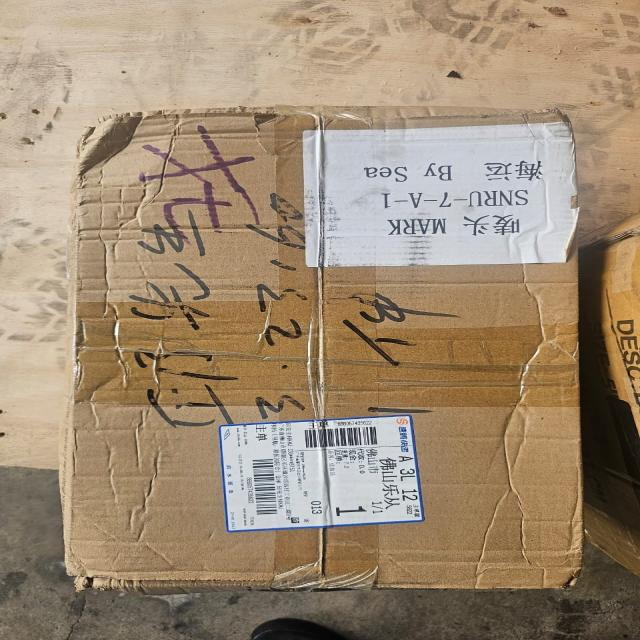carton_box: (57, 94, 601, 604)
export_mark_label: (305, 123, 589, 266), (195, 425, 460, 545)
package_damage: (64, 558, 594, 607), (62, 110, 140, 176)
